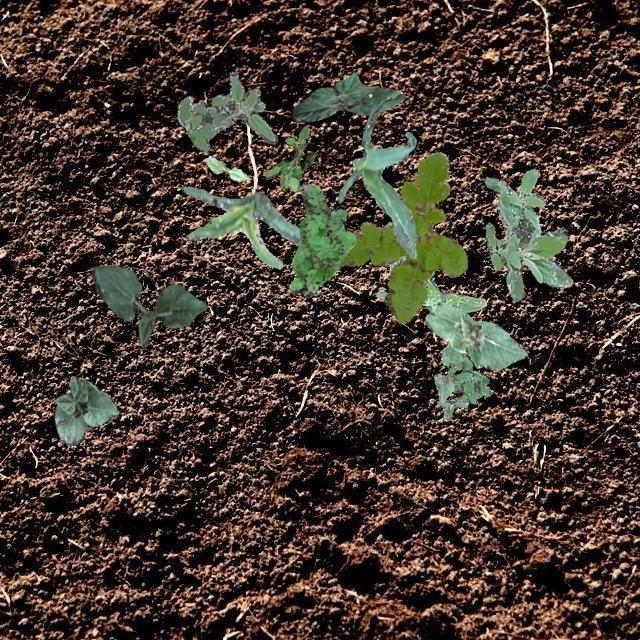crop: (336, 94, 416, 258), (182, 185, 300, 268), (90, 264, 206, 348), (424, 302, 526, 370), (290, 72, 404, 122), (54, 374, 118, 444), (432, 342, 466, 400), (204, 154, 248, 180)
weed: (338, 150, 466, 324), (484, 168, 572, 300), (376, 220, 486, 312), (176, 70, 276, 152), (288, 182, 356, 296), (436, 354, 489, 420), (264, 124, 316, 190)
